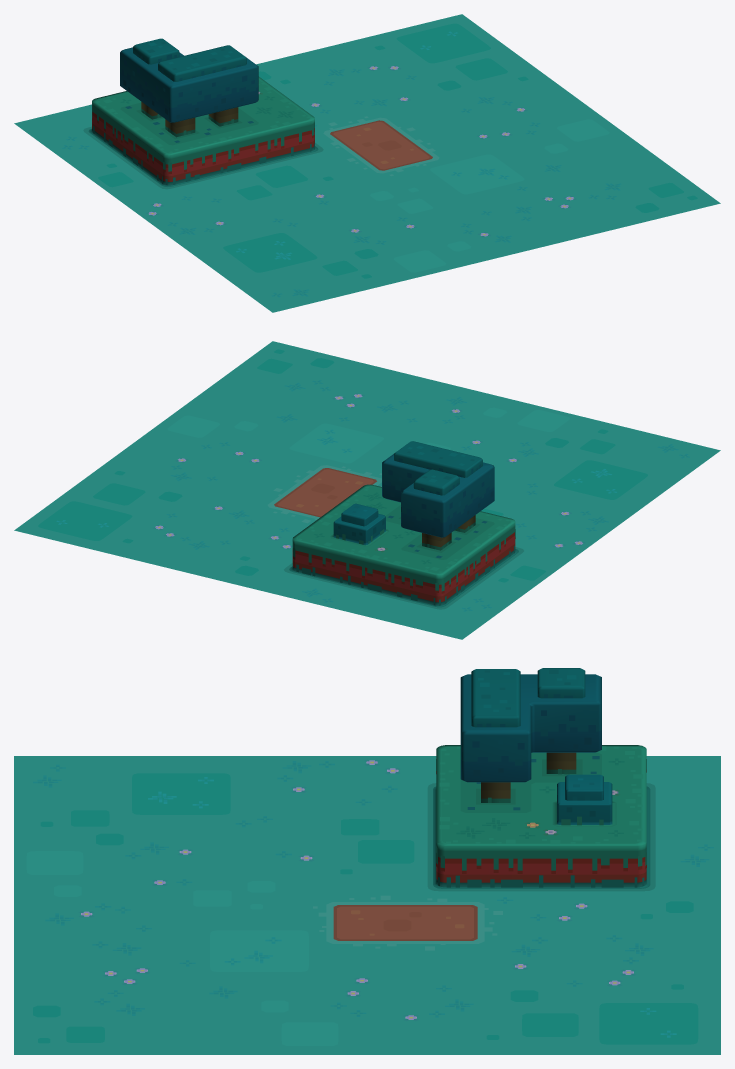
File: C_forest1_02.fbx
The picture shows the model from 3 angles, top to bottom: view 1: azimuth 30°, elevation 25°; view 2: azimuth 150°, elevation 25°; view 3: azimuth 270°, elevation 25°; orthographic projection. The views are drawn at different scales.
Visible parts, largest first — view 1: C_forest1_02; view 2: C_forest1_02; view 3: C_forest1_02.
Part boxes in pixels (box(x1,y1,x2,y2)): C_forest1_02: box(14, 14, 720, 312); C_forest1_02: box(14, 341, 720, 639); C_forest1_02: box(14, 668, 720, 1054).
Size of the model in its own units: 50 by 10.52 by 50.
